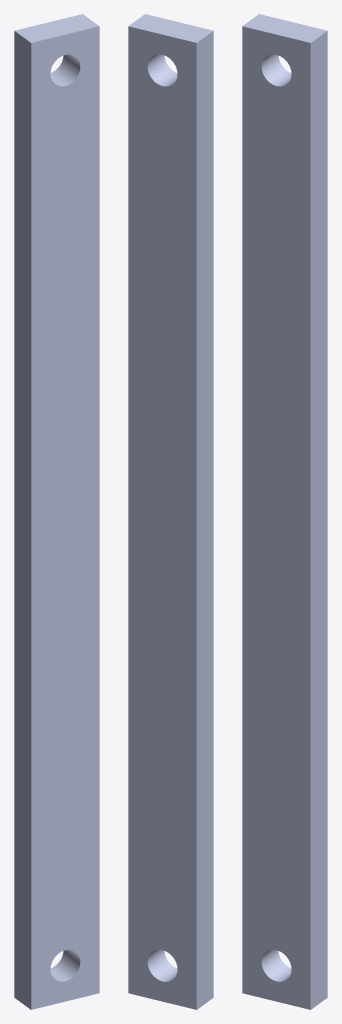
File: back_link.dae
3 views of the same model, side by side, from view 1: azimuth 30°, elevation 25°; view 2: azimuth 150°, elevation 25°; view 3: azimuth 330°, elevation 25° (orthographic).
Parts seen in each view (by area): view 1: back_link; view 2: back_link; view 3: back_link.
Part boxes in pixels (left/top/right/bottom): back_link: left=14, top=14, right=99, bottom=1009; back_link: left=128, top=14, right=213, bottom=1009; back_link: left=242, top=14, right=327, bottom=1009.
Size of the model in its own units: 0.008 by 0.0034 by 0.108.
